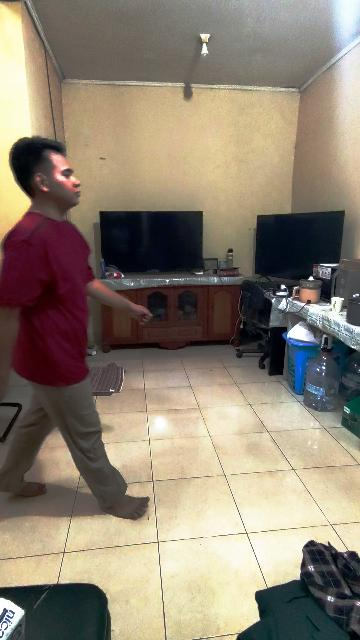berjalan: (4, 138, 150, 524)
